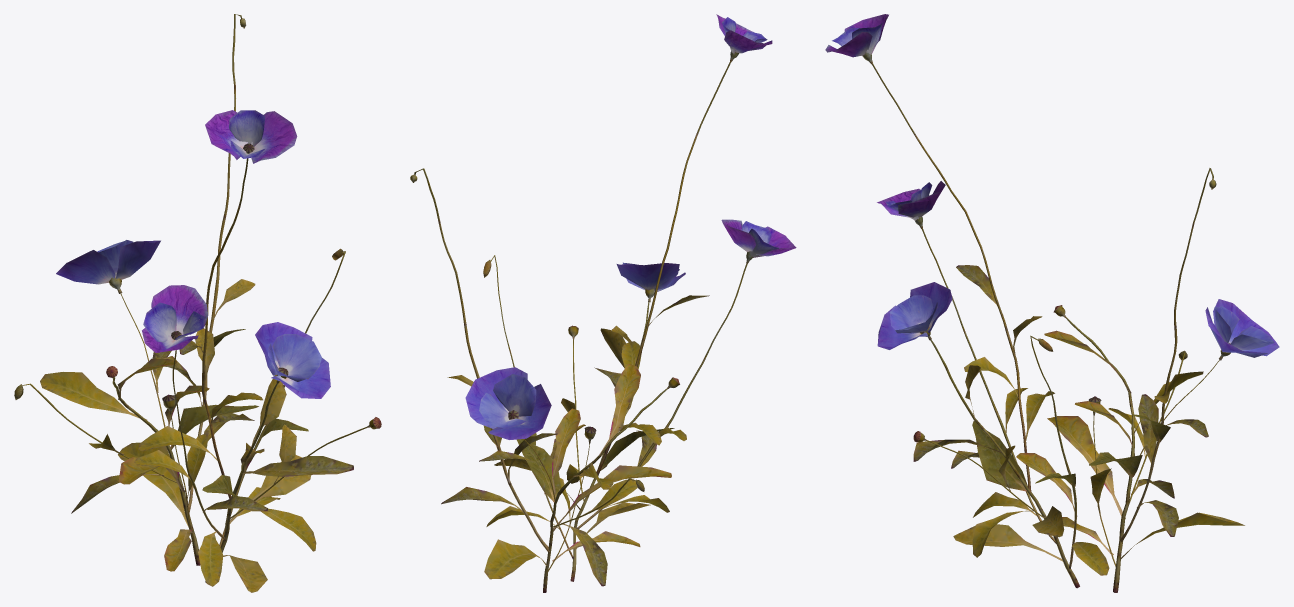
Rendered from Poppy_bush_normal_purple.glb.
The picture shows the model from 3 angles, left to right: view 1: azimuth 30°, elevation 25°; view 2: azimuth 150°, elevation 25°; view 3: azimuth 270°, elevation 25°; orthographic projection. The views are drawn at different scales.
Visible parts, largest first — view 1: bushhhh; view 2: bushhhh; view 3: bushhhh.
Boxes of the visible parts, x1,y1,x2,y2 form: bushhhh: (14, 14, 381, 592); bushhhh: (410, 14, 796, 592); bushhhh: (825, 14, 1279, 592).
Size of the model in its own units: 2.3 by 4.57 by 3.53.
Materials: 1 (1 with a texture image).
